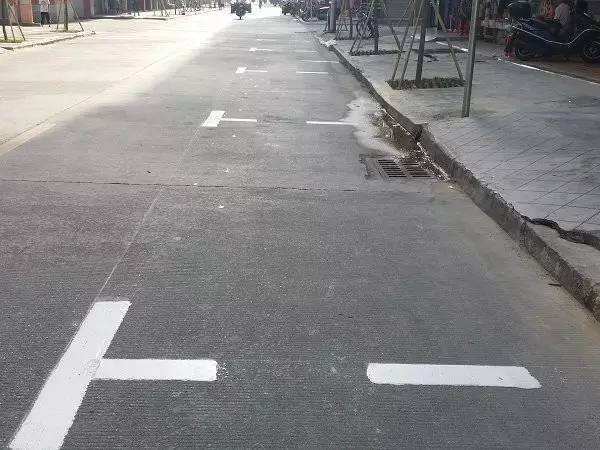slot_nocar: (62, 104, 600, 396), (180, 61, 411, 137), (219, 38, 352, 79), (256, 25, 326, 48)
